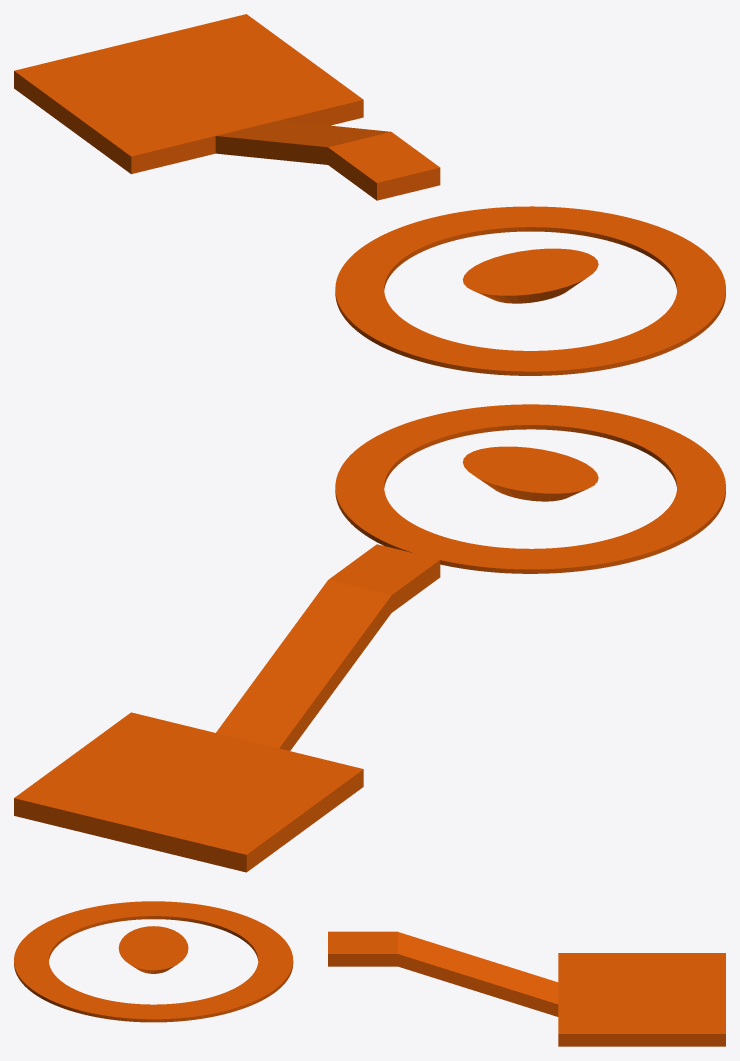
File: PUNT_Arena_1.glb
3 renders of one model, top to bottom at view 1: azimuth 30°, elevation 25°; view 2: azimuth 150°, elevation 25°; view 3: azimuth 270°, elevation 25°, orthographic. The views are drawn at different scales.
Parts seen in each view (by area): view 1: Cube, Outer Ring, Central Island; view 2: Cube, Outer Ring, Central Island; view 3: Cube, Outer Ring, Central Island.
Part boxes in pixels (box(x1,y1,x2,y2)): Cube: box(14, 14, 440, 200); Outer Ring: box(335, 206, 725, 375); Central Island: box(462, 248, 598, 303); Cube: box(14, 544, 440, 872); Outer Ring: box(335, 404, 725, 573); Central Island: box(462, 446, 598, 501); Cube: box(328, 931, 725, 1046); Outer Ring: box(14, 901, 293, 1022); Central Island: box(118, 926, 188, 973).
Bounding box in the file's own units: 40 × 10 × 102.
